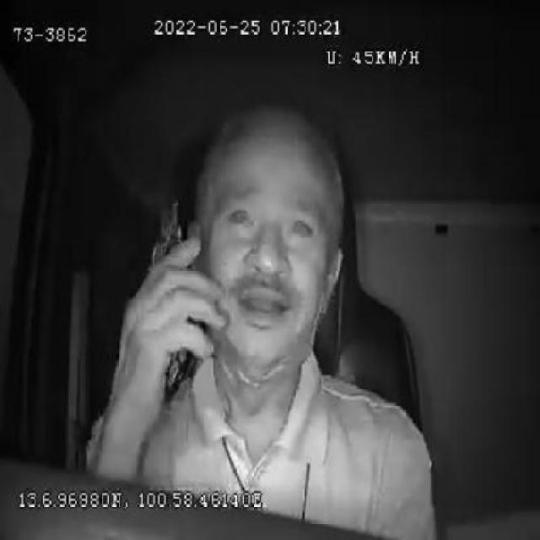phone: (149, 196, 199, 400)
